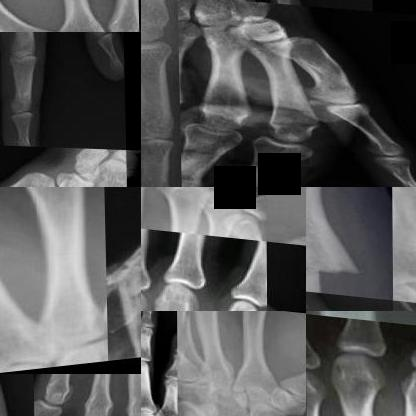fracture: (306, 226, 366, 292), (177, 311, 200, 370), (141, 34, 153, 76), (234, 221, 265, 235)
